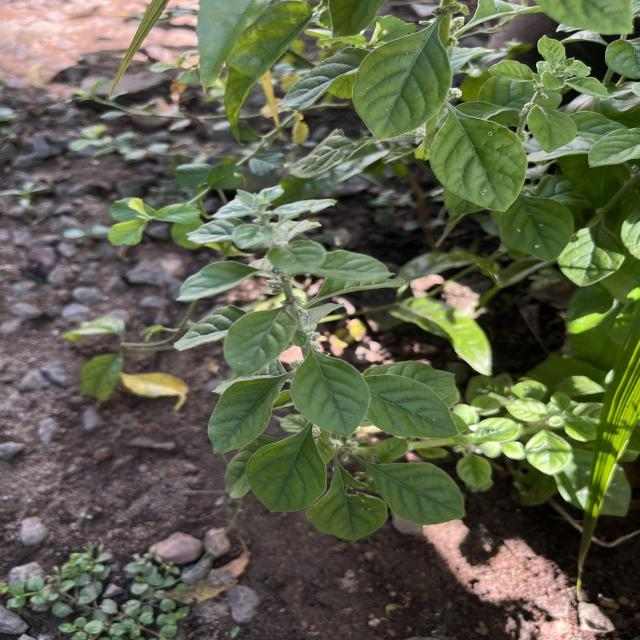Aerva lanata: (288, 347, 376, 440), (243, 427, 330, 516), (361, 370, 463, 440), (206, 371, 289, 456)
